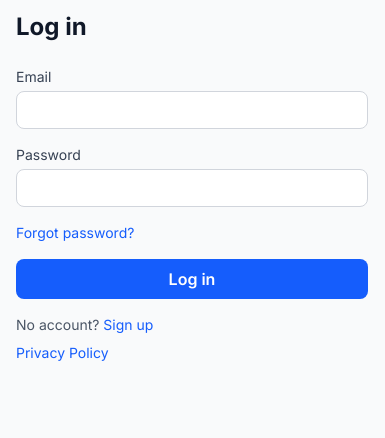
Test: LoginPage › shows the server message on failure
Type "a@b.co" into the field with test id "login-email". click: (192, 110)
box: [16, 91, 368, 129]
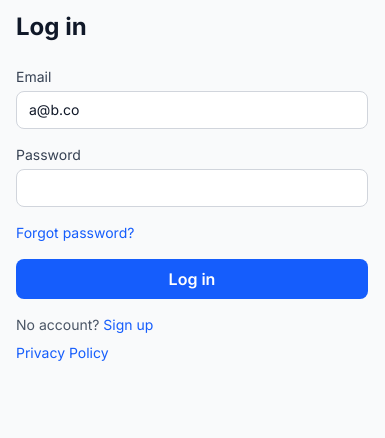
Type "secret" into the password field with test id "login-password". click: (192, 188)
box: [16, 169, 368, 207]
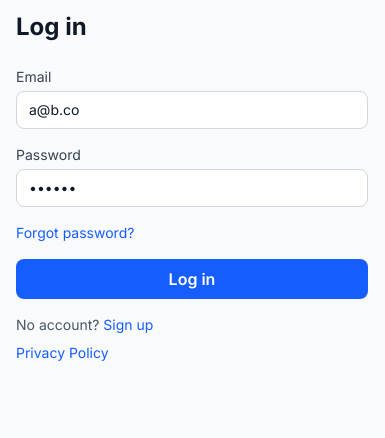
Click the button with test id "login-submit". click: click(192, 279)
box: [16, 259, 368, 299]
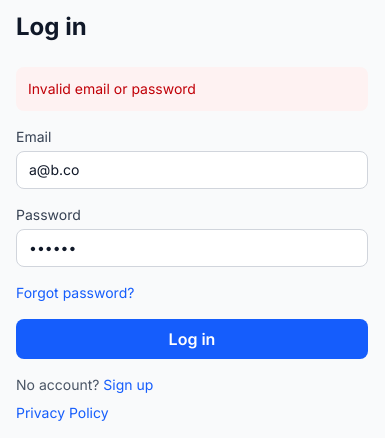
Check: the button with test id "login-submit" is enabled, box [16, 319, 368, 359]
Check: the message reads "Invalid email or password", box [28, 80, 196, 97]
